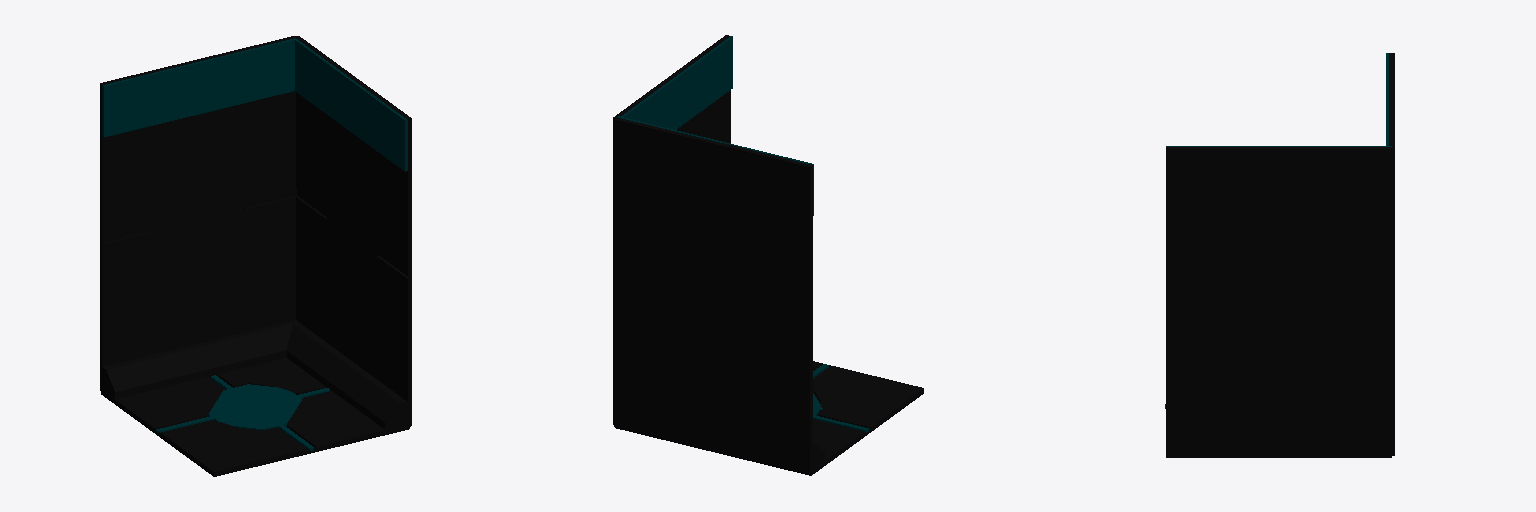
The model's file is SciFiWall4.obj.
The picture shows the model from 3 angles: view 1: azimuth 30°, elevation 25°; view 2: azimuth 150°, elevation 25°; view 3: azimuth 270°, elevation 25°; orthographic projection.
Parts seen in each view (by area): view 1: Wall.001, Wall, Cube, Wall_Panel, Triangle_Connecter, Wall_Panel.001, Triangle_Connecter.001, Floor_Oct; view 2: Wall.001, Cube, Wall_Panel.001, Wall; view 3: Wall, Wall.001.
Part boxes in pixels (bbox=[...]): Wall.001: bbox=[100, 36, 297, 390]; Wall: bbox=[294, 36, 411, 426]; Cube: bbox=[101, 358, 409, 476]; Wall_Panel: bbox=[102, 38, 295, 136]; Triangle_Connecter: bbox=[101, 320, 298, 398]; Wall_Panel.001: bbox=[295, 39, 407, 171]; Triangle_Connecter.001: bbox=[287, 320, 409, 432]; Floor_Oct: bbox=[208, 384, 301, 429]; Wall.001: bbox=[614, 117, 812, 473]; Cube: bbox=[615, 361, 923, 475]; Wall_Panel.001: bbox=[621, 36, 732, 129]; Wall: bbox=[613, 35, 730, 424]; Wall: bbox=[1166, 147, 1391, 456]; Wall.001: bbox=[1389, 53, 1394, 455].
Bounding box in the file's own units: 4.05 × 6.05 × 4.05.